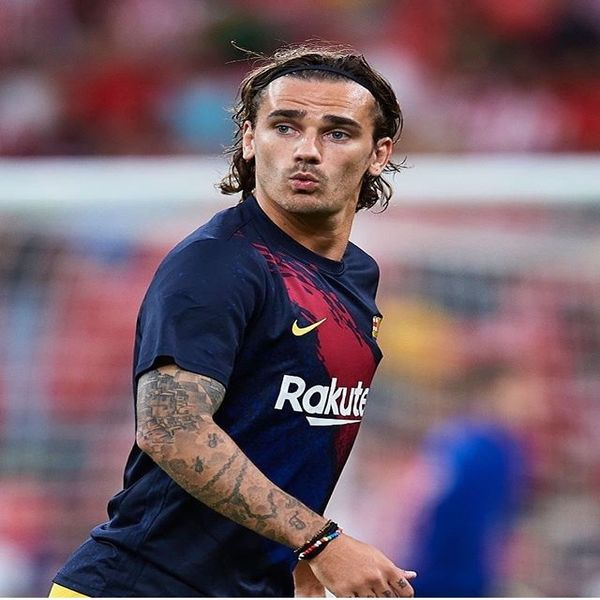nike: (290, 314, 329, 338)
